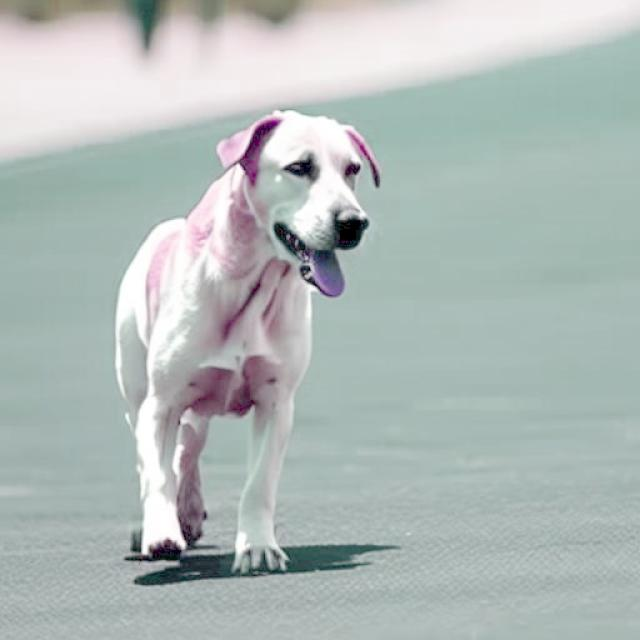Dog: (113, 110, 383, 576)
